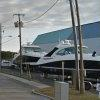Boat: (15, 36, 99, 96)
